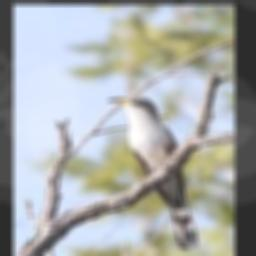Cuckoo: (107, 97, 198, 249)
